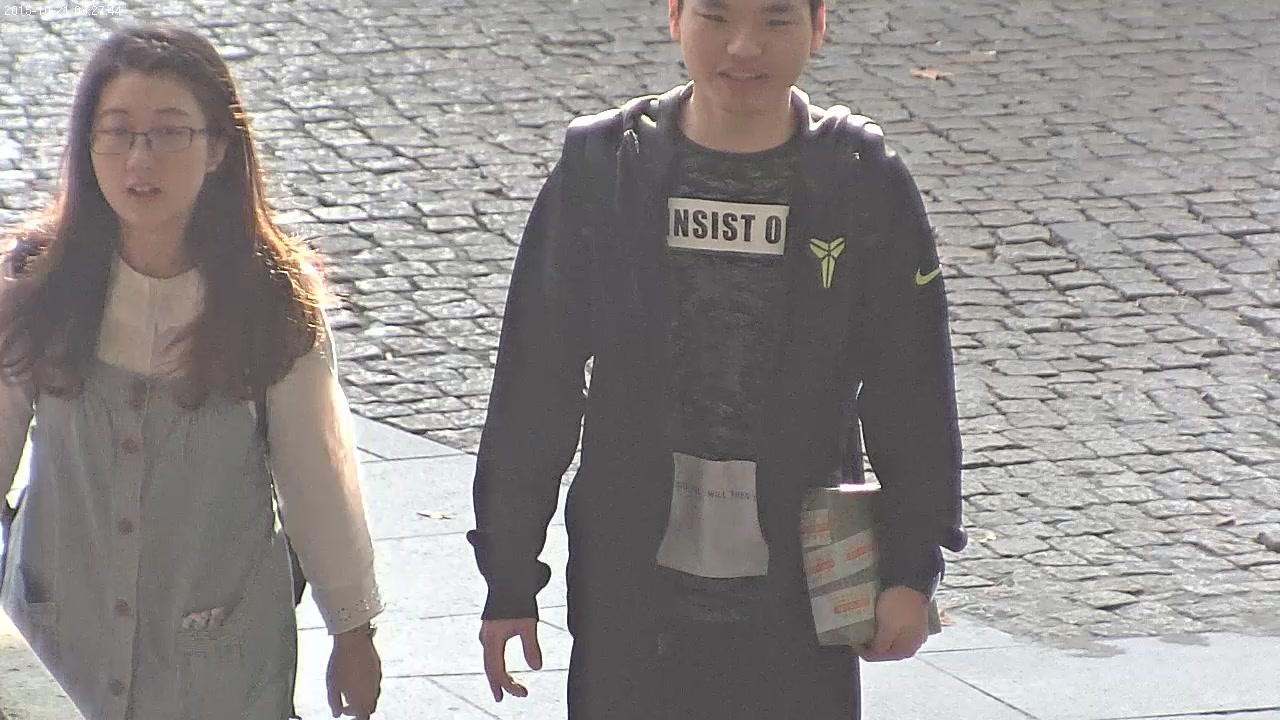person: (466, 0, 966, 720), (0, 21, 383, 720)
